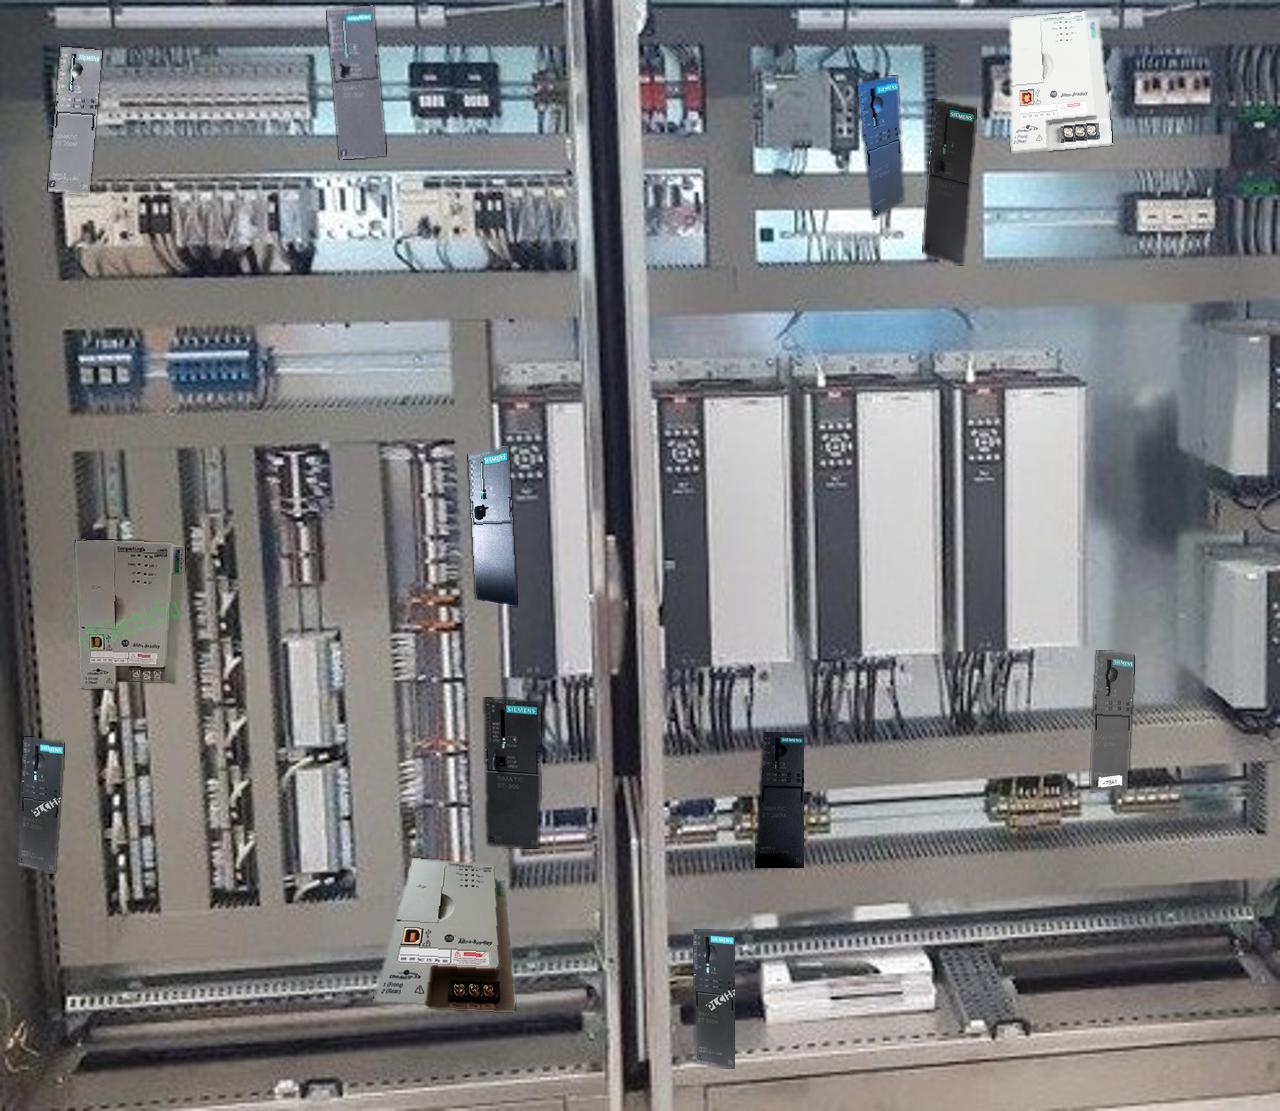AllenBradley: (373, 857, 514, 1011), (75, 539, 184, 689), (1010, 11, 1112, 151)
Siemens: (327, 5, 385, 159), (923, 100, 975, 264), (484, 698, 539, 847), (468, 446, 516, 605)
